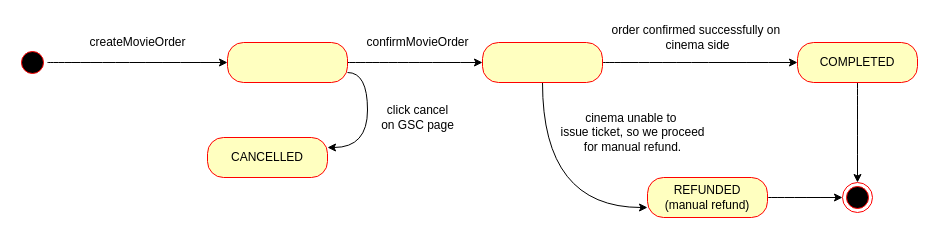
Image size: 935x235. Some labels were removed from this diagram. The centre of each missing label's shape, as x and y in pixels:
PAID: [542,62]
PENDING: [287,62]
